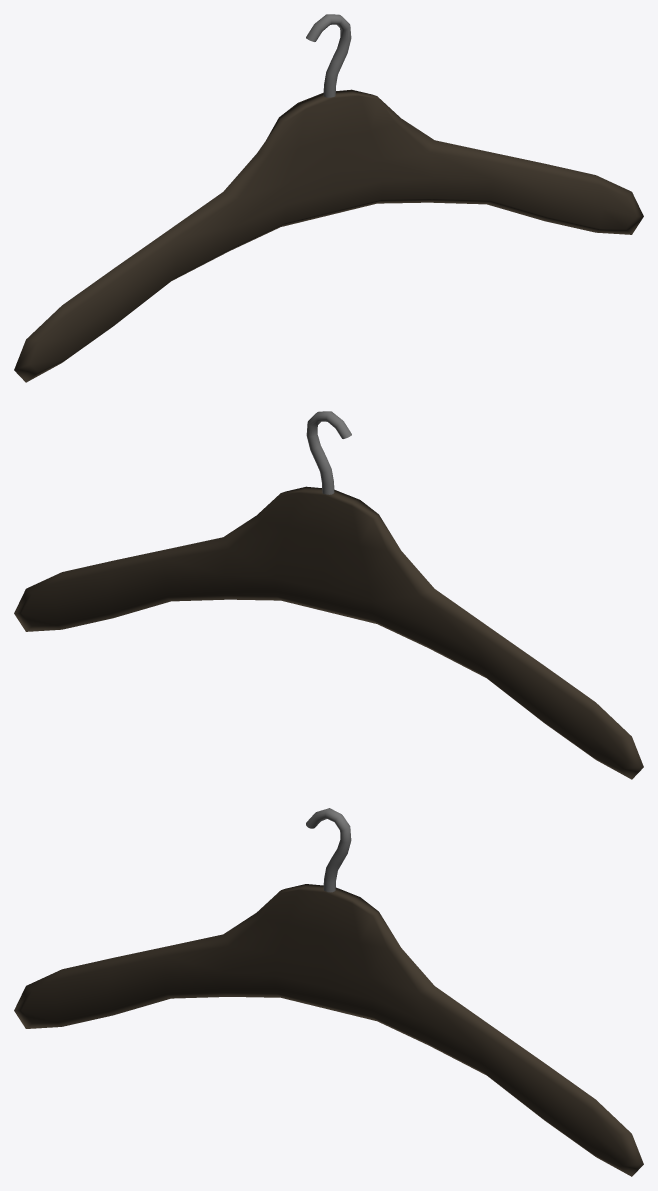
File: Hanger3.fbx
3 renders of one model, top to bottom at view 1: azimuth 30°, elevation 25°; view 2: azimuth 150°, elevation 25°; view 3: azimuth 330°, elevation 25°, orthographic.
Parts seen in each view (by area): view 1: pCube23, sweep1; view 2: pCube23, sweep1; view 3: pCube23, sweep1.
Part boxes in pixels (x1,y1,x2,y2): pCube23: (14,89,643,382); sweep1: (306,14,351,97); pCube23: (14,486,643,779); sweep1: (306,411,351,494); pCube23: (14,884,643,1176); sweep1: (306,808,351,892).
Size of the model in its own units: 32.55 by 14.53 by 1.02.
